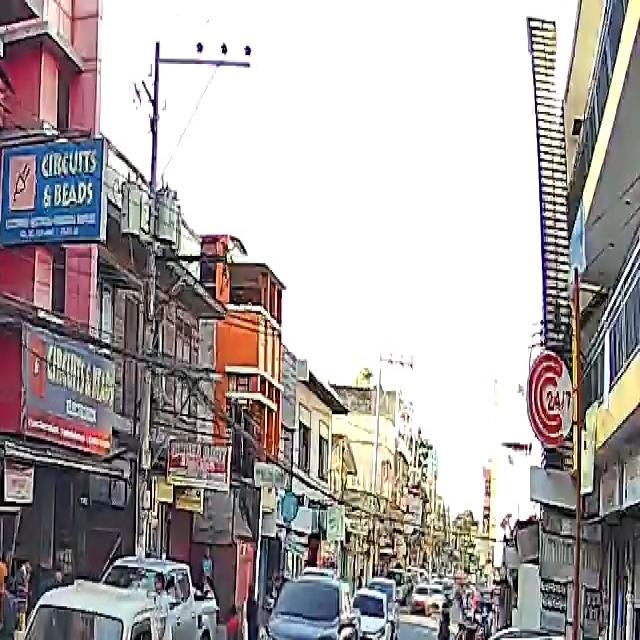car: (100, 553, 221, 640), (256, 572, 361, 640), (467, 624, 639, 640), (354, 579, 396, 640), (406, 585, 444, 617)
